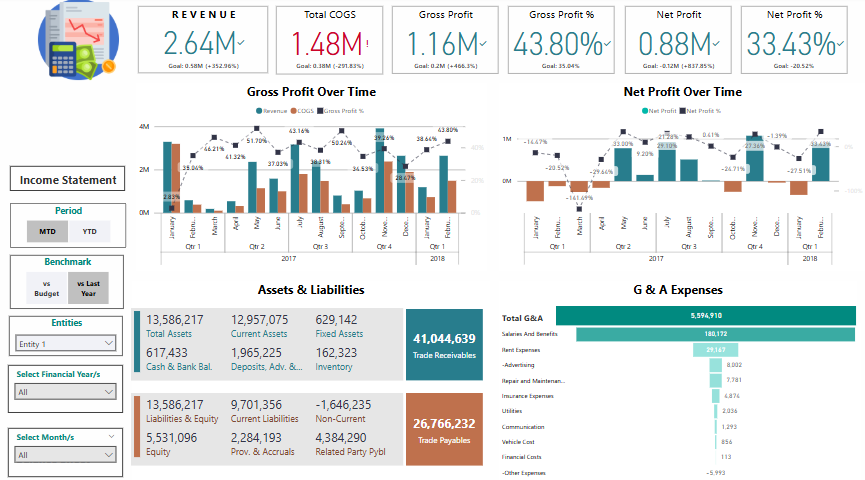

This screenshot's page, from the dashboard's own definition file:
{"tool":"powerbi","page":{"name":"Financial Overview","canvas":[1440,810],"ordinal":0},"visuals":[{"type":"pivotTable","fields":{"Columns":["Calender-Date.Date.Variation.Date Hierarchy.Year","Calender-Date.Date.Variation.Date Hierarchy.Month"],"Rows":["Balance Sheet.Category","Balance Sheet.Group","Balance Sheet.Sub-Group","Balance Sheet.Account"],"Values":["Sum(Balance Sheet.Amount)"]},"box":[234.7,155.4,1191.9,633.1],"z":0},{"type":"kpi","title":"Net Profit %","fields":{"TrendLine":["Date Table.Date"],"Goal":["Comparison.Target Net Profit %"],"Indicator":["Income Statement.Net Profit %"]},"box":[1232.6,16,176,112],"z":17000},{"type":"kpi","title":"Net Profit","fields":{"TrendLine":["Date Table.Date"],"Goal":["Comparison.Target Net Profit"],"Indicator":["Income Statement.Net Profit"]},"box":[1040.6,16,176,112],"z":18000},{"type":"kpi","title":"Gross Profit %","fields":{"TrendLine":["Date Table.Date"],"Goal":["Comparison.Target Gross Profit %"],"Indicator":["Income Statement.Gross Profit %"]},"box":[848.6,16,176,112],"z":19000},{"type":"kpi","title":"Gross Profit","fields":{"TrendLine":["Date Table.Date"],"Goal":["Comparison.Target Gross Profit"],"Indicator":["Income Statement.Gross Profit"]},"box":[656.6,16,176,112],"z":20000},{"type":"kpi","title":"Total COGS","fields":{"TrendLine":["Date Table.Date"],"Goal":["Comparison.Target COGS"],"Indicator":["Income Statement.COGS"]},"box":[464.6,16.1,177,112.6],"z":21000},{"type":"kpi","title":"R E V E N U E","fields":{"TrendLine":["Date Table.Date"],"Goal":["Comparison.Target Revenue"],"Indicator":["Income Statement.Revenue"]},"box":[236.4,16.5,214.9,110.8],"z":22000},{"type":"actionButton","box":[24.8,221.5,190.1,41.3],"z":25000},{"type":"actionButton","box":[24.8,281,190.1,41.3],"z":26000},{"type":"actionButton","box":[24.8,158.7,191.8,41.3],"z":28000},{"type":"slicer","fields":{"Values":["Calender-Date.Month"]},"box":[21.5,714.1,190.1,81],"z":30000},{"type":"slicer","fields":{"Values":["Calender-Date.Year"]},"box":[21.5,610,190.1,79.3],"z":31000},{"type":"slicer","title":"Entities","fields":{"Values":["Entity.Entity"]},"box":[23.1,529,188.4,66.1],"z":32000},{"type":"slicer","title":"Benchmark","fields":{"Values":["Benchmark.Benchmark"]},"box":[24.8,428.1,188.4,89.3],"z":33000},{"type":"slicer","title":"Period","fields":{"Values":["Period.Period"]},"box":[24.8,342.2,191.8,74.4],"z":34000},{"type":"image","box":[0,0,276.1,143.8],"z":37000}]}

Visuals, with their boxes in screenshot pixels (x1, y1, x2, y2), scaled from the page's 1440x810 canvas onto the 865x480 screenshot:
pivotTable - Calender-Date.Date.Variation.Date Hierarchy.Year x Calender-Date.Date.Variation.Date Hierarchy.Month: <box>141,92,857,467</box>
"Net Profit %" kpi: <box>740,9,846,76</box>
"Net Profit" kpi: <box>625,9,731,76</box>
"Gross Profit %" kpi: <box>510,9,615,76</box>
"Gross Profit" kpi: <box>394,9,500,76</box>
"Total COGS" kpi: <box>279,10,385,76</box>
"R E V E N U E" kpi: <box>142,10,271,75</box>
actionButton: <box>15,131,129,156</box>
actionButton: <box>15,167,129,191</box>
actionButton: <box>15,94,130,119</box>
slicer - Calender-Date.Month: <box>13,423,127,471</box>
slicer - Calender-Date.Year: <box>13,361,127,408</box>
"Entities" slicer: <box>14,313,127,353</box>
"Benchmark" slicer: <box>15,254,128,307</box>
"Period" slicer: <box>15,203,130,247</box>
image: <box>0,0,166,85</box>
